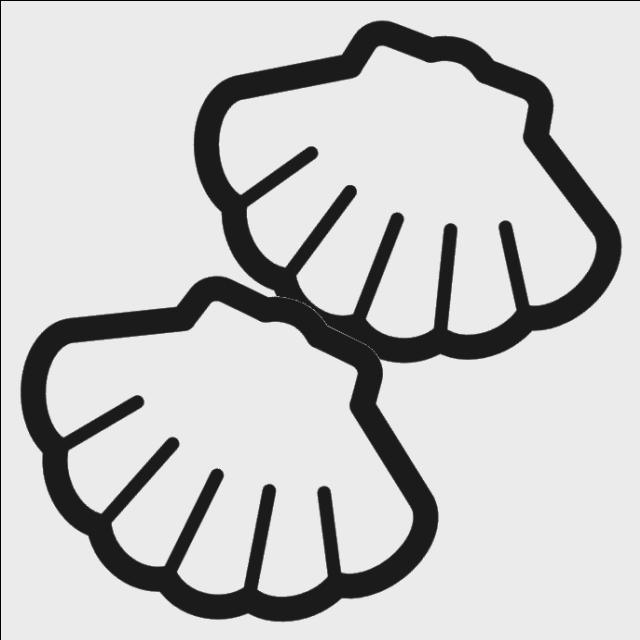shell: (182, 9, 632, 382), (13, 269, 453, 633)
